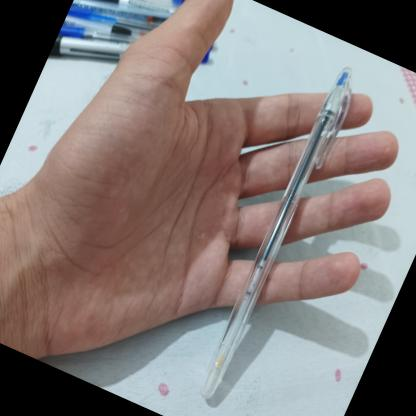pencil: (197, 73, 352, 403)
